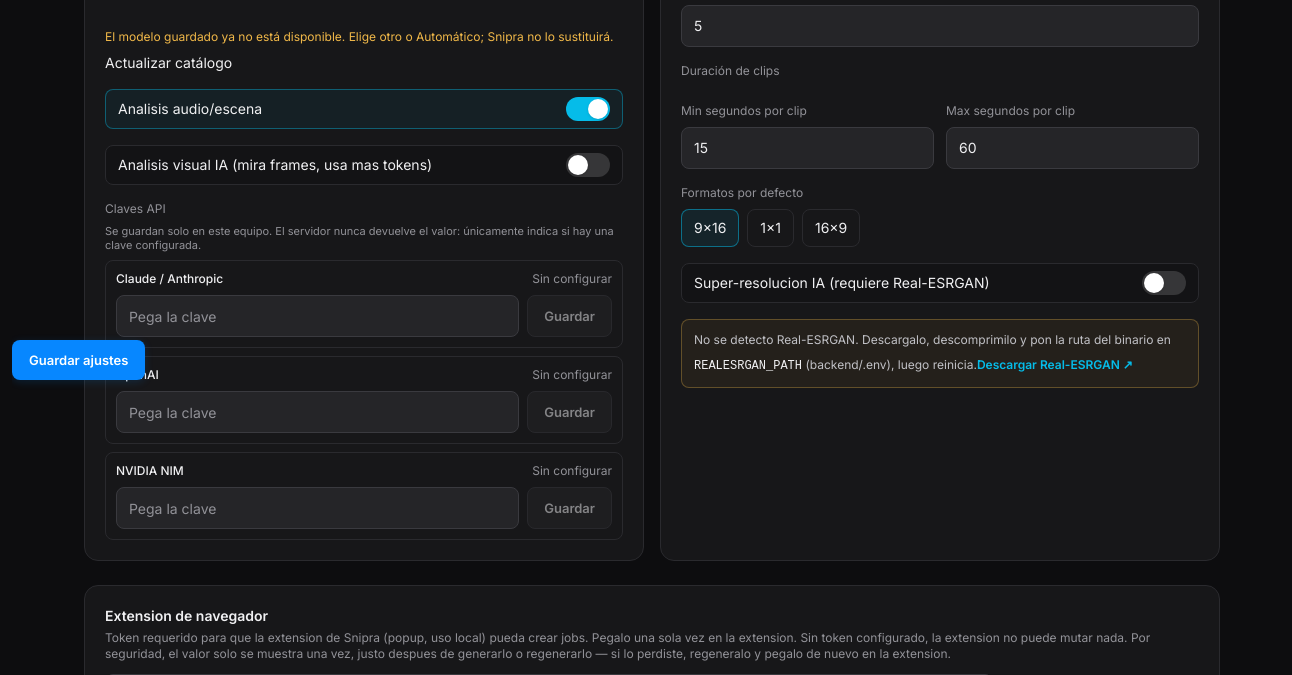
Test: Media Foundation en SettingsPage › guarda NVIDIA automático como auto y conserva un modelo retirado manual
Later steps or results of the test are not shown.
(page scrolled)
Expected: the message shows "ya no está disponible", left=105, top=29, right=614, bottom=44
Click the button "Guardar ajustes".
click(79, 360)  # box left=12, top=340, right=145, bottom=380
(page scrolled)
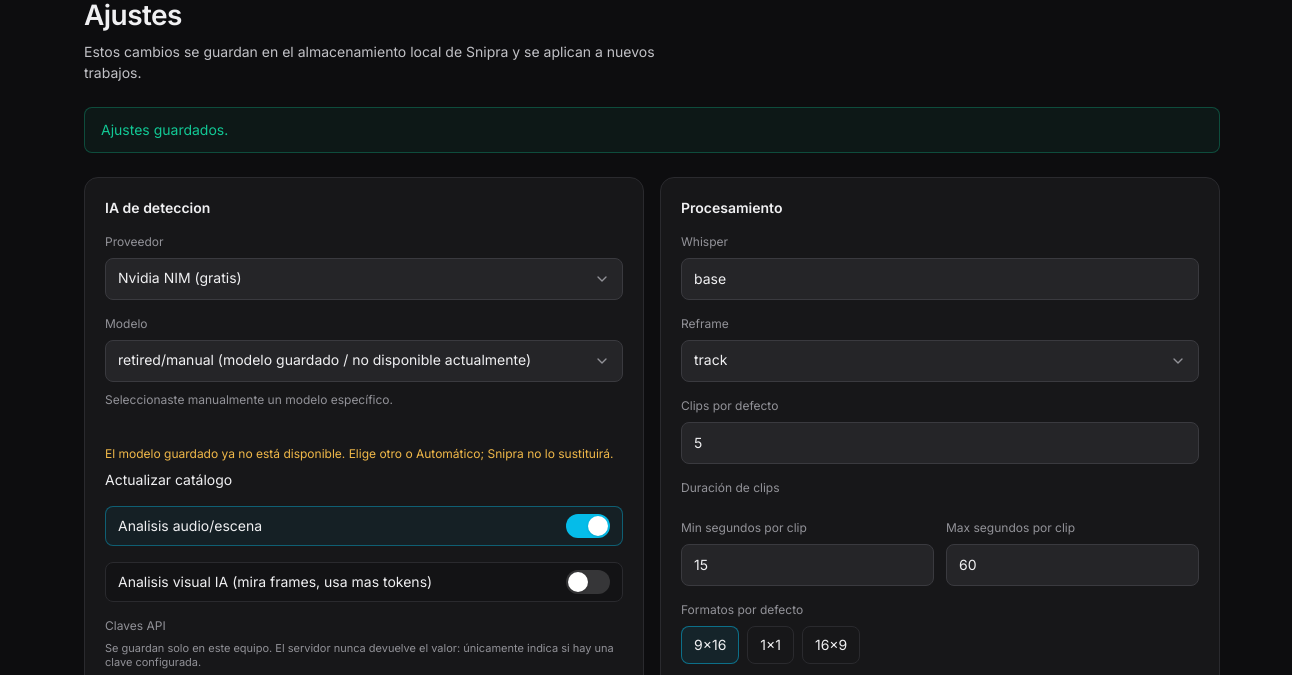
Result: the text "Ajustes guardados." is shown at left=84, top=107, right=1220, bottom=153
